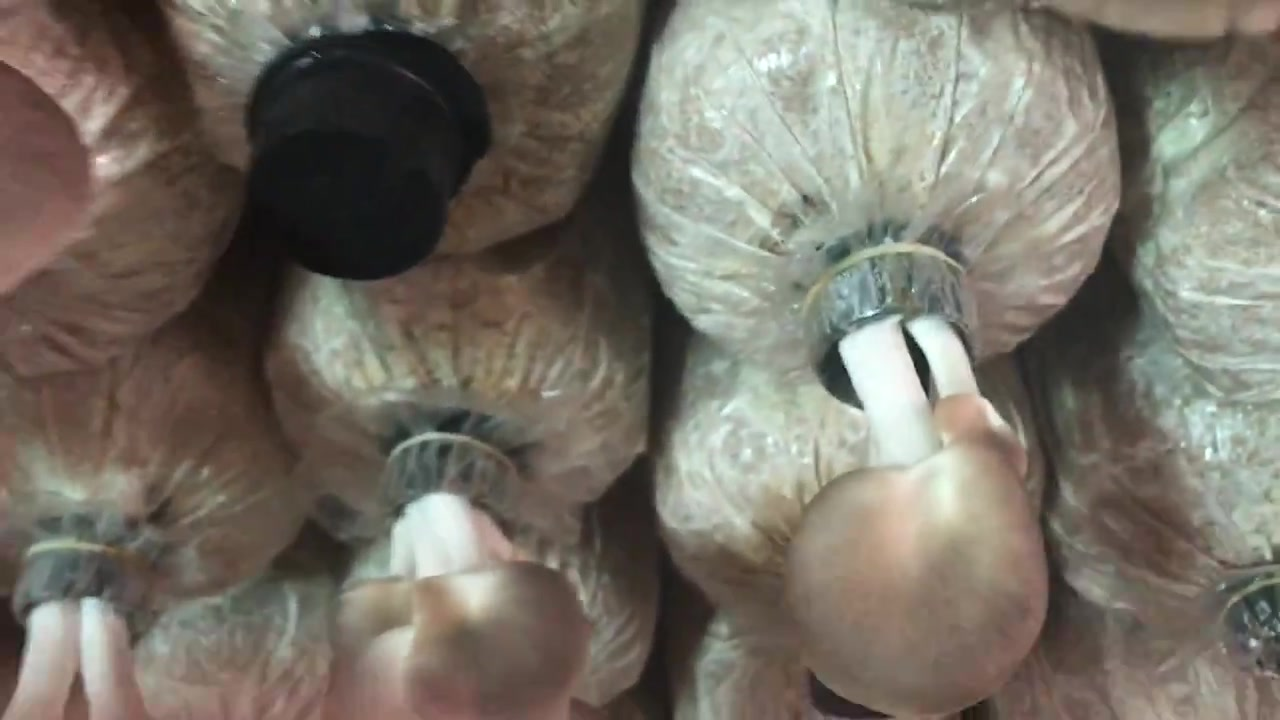nam: (792, 249, 1049, 720), (342, 434, 589, 720)
